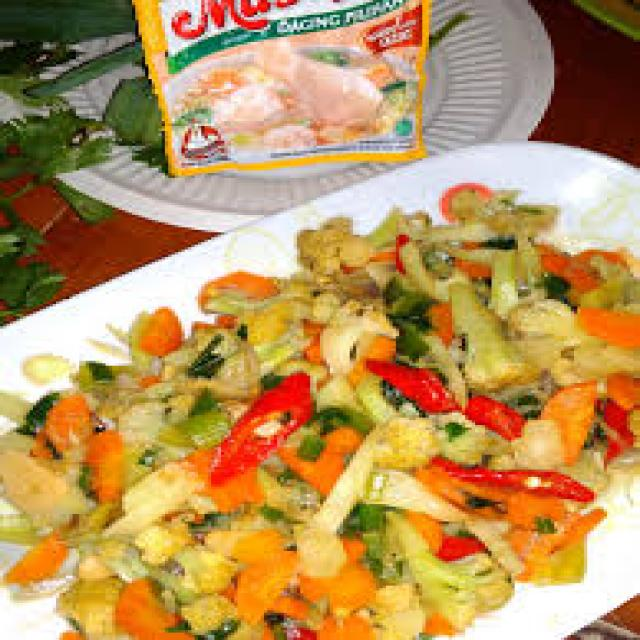wortel: (3, 202, 639, 640)
